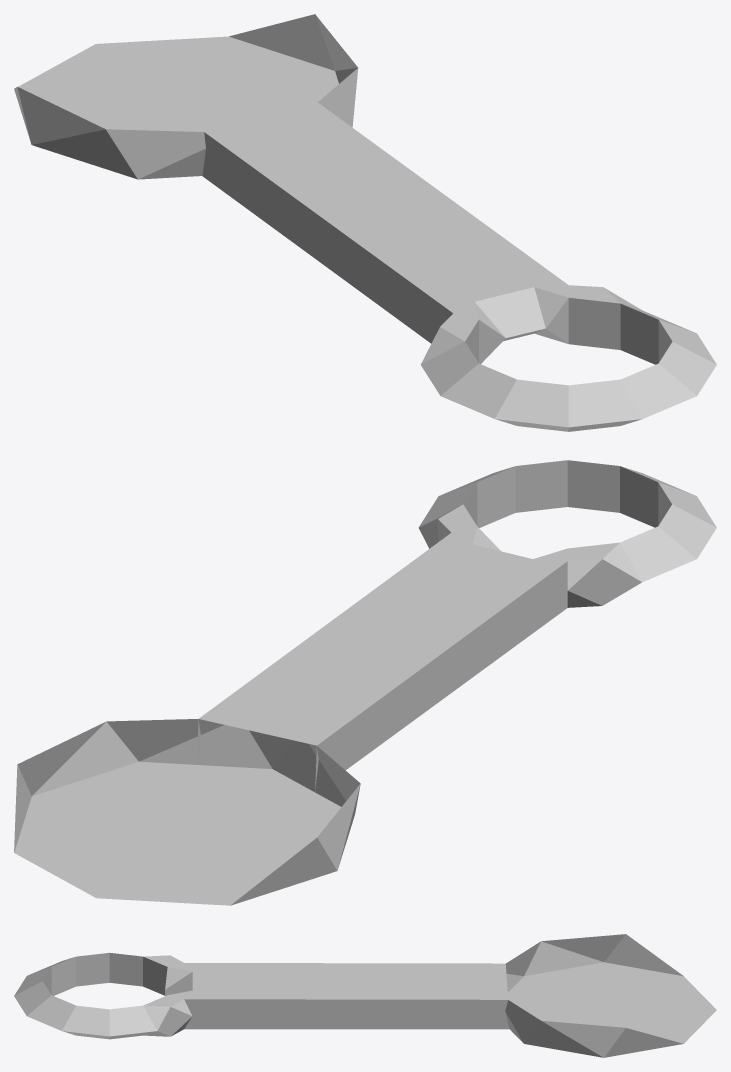
File: Shovel.fbx
3 views of the same model, one above another, from view 1: azimuth 30°, elevation 25°; view 2: azimuth 150°, elevation 25°; view 3: azimuth 270°, elevation 25° (orthographic). The views are drawn at different scales.
Parts seen in each view (by area): view 1: Shovel; view 2: Shovel; view 3: Shovel.
Boxes of the visible parts, x1,y1,x2,y2 form: Shovel: [14, 14, 716, 431]; Shovel: [14, 460, 716, 905]; Shovel: [14, 934, 716, 1057].
Bounding box in the file's own units: 98.75 × 14.45 × 307.
1 material, 1 textured.
